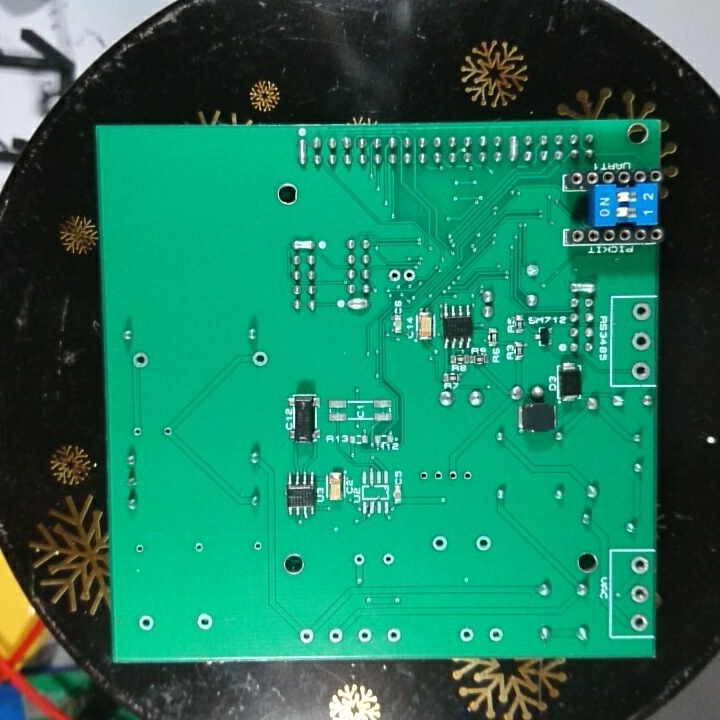F: (128, 349, 154, 374), (629, 300, 654, 324), (247, 348, 274, 370), (630, 329, 653, 354), (193, 610, 216, 633), (628, 553, 650, 577), (629, 360, 653, 381), (628, 584, 650, 606), (136, 612, 158, 633), (629, 612, 650, 632), (430, 533, 449, 555), (456, 626, 476, 646), (474, 534, 493, 555), (325, 626, 347, 644), (297, 625, 315, 646), (384, 625, 404, 643), (524, 260, 541, 281), (485, 626, 506, 643), (356, 628, 374, 646), (386, 266, 401, 286), (352, 550, 367, 569), (161, 423, 175, 443), (381, 549, 396, 567), (430, 468, 445, 485), (250, 538, 265, 555), (402, 266, 417, 283), (417, 467, 430, 484), (461, 468, 475, 483), (133, 543, 147, 558), (130, 425, 144, 440), (193, 539, 205, 555), (447, 469, 459, 484)
P: (567, 279, 599, 296), (346, 295, 370, 314), (296, 135, 310, 167), (507, 132, 519, 165), (290, 238, 317, 252)
